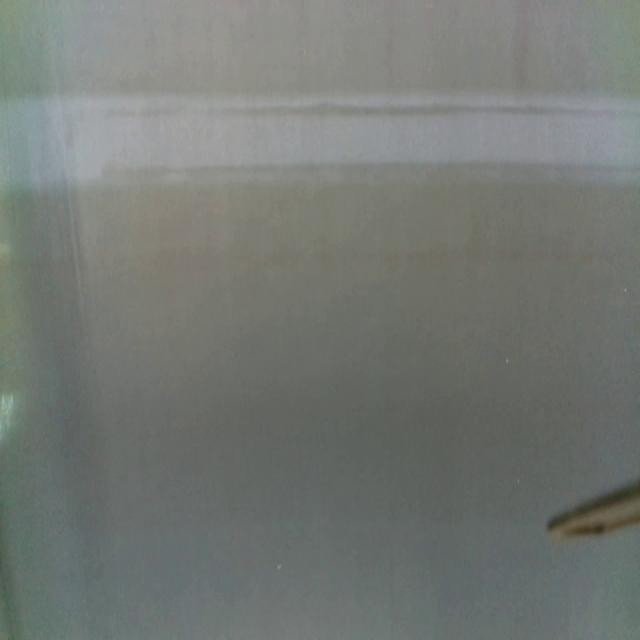color bleeding: (0, 77, 640, 217)
